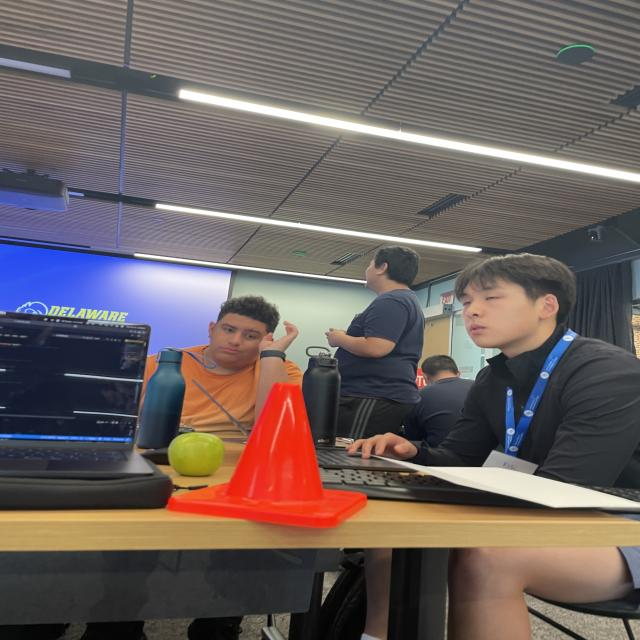Traffic Cone: (172, 386, 366, 531)
